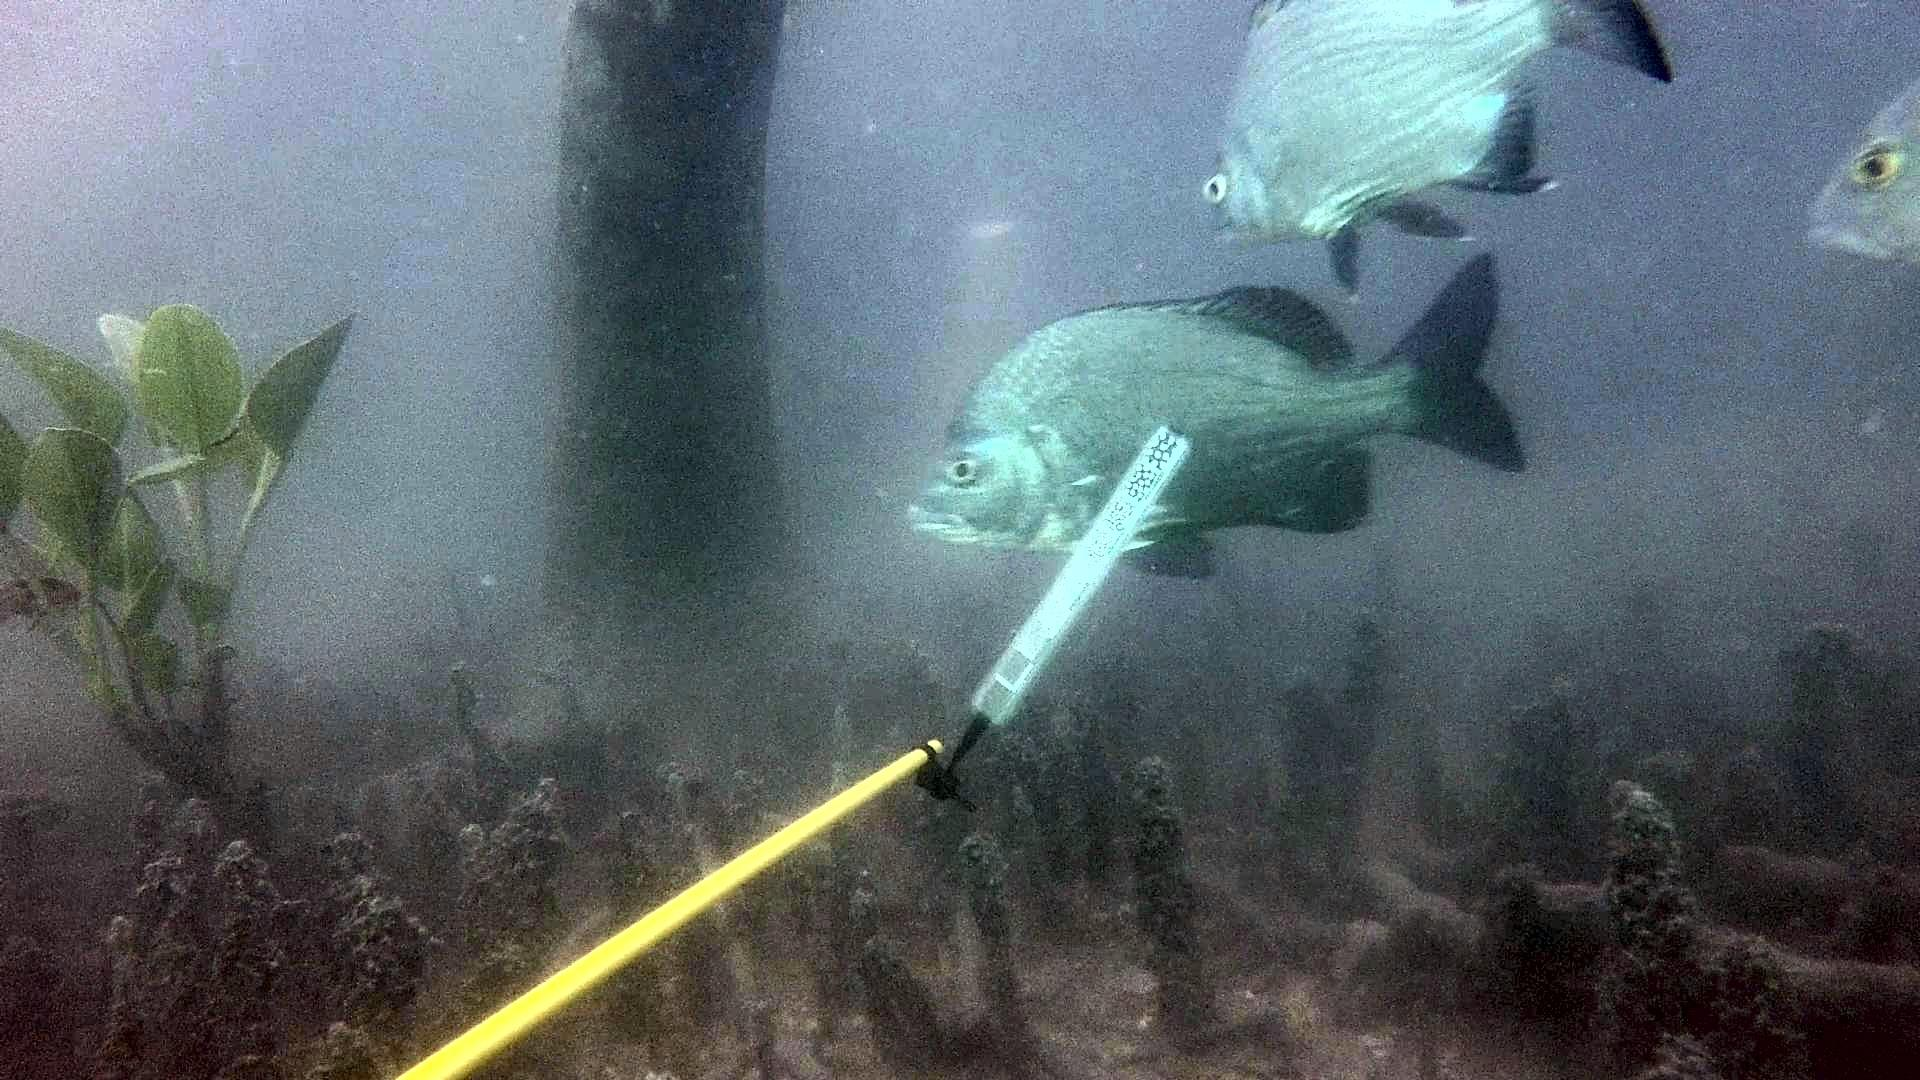acanthopagrus palmaris: (895, 245, 1539, 589), (1188, 0, 1701, 298)
caranx: (1788, 63, 1920, 319)
